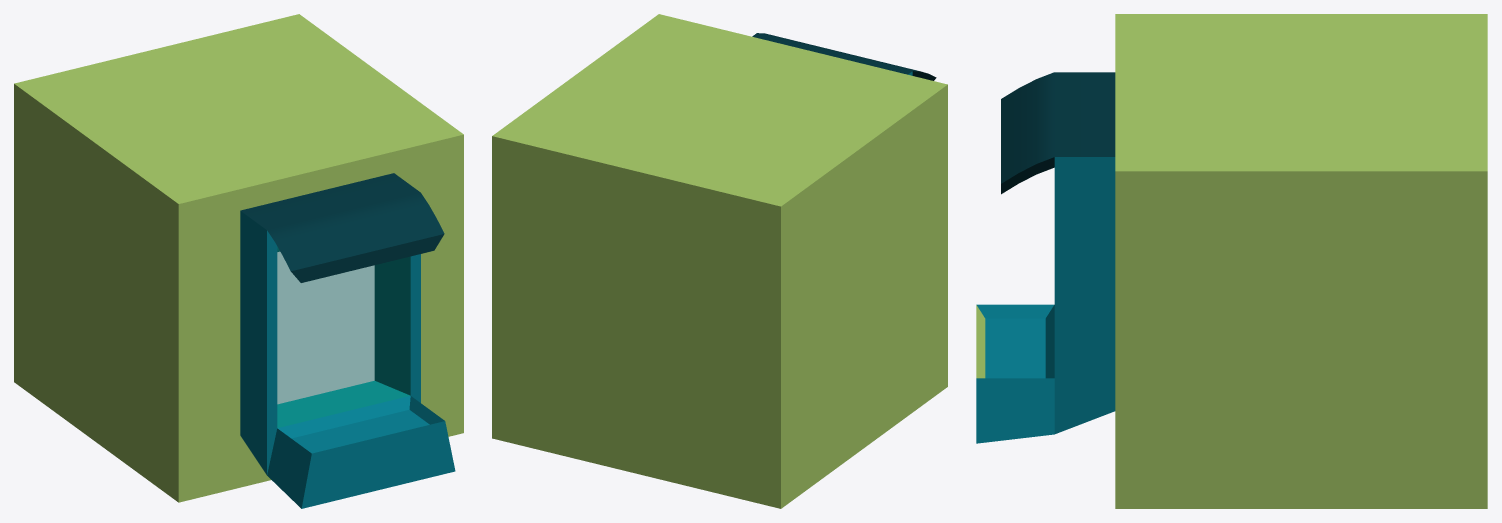
The model's file is 1Middle Block bluegreen.fbx.
3 views of the same model, side by side, from view 1: azimuth 30°, elevation 25°; view 2: azimuth 150°, elevation 25°; view 3: azimuth 270°, elevation 25° (orthographic). The views are drawn at different scales.
Visible parts, largest first — view 1: pCube23, pCube22; view 2: pCube23, pCube22; view 3: pCube23, pCube22.
Part boxes in pixels (bbox=[...]): pCube23: bbox=[14, 14, 463, 502]; pCube22: bbox=[240, 173, 455, 508]; pCube23: bbox=[492, 14, 947, 508]; pCube22: bbox=[752, 33, 936, 80]; pCube23: bbox=[1115, 14, 1487, 508]; pCube22: bbox=[976, 72, 1115, 443].
Size of the model in its own units: 2 by 2 by 2.75.
